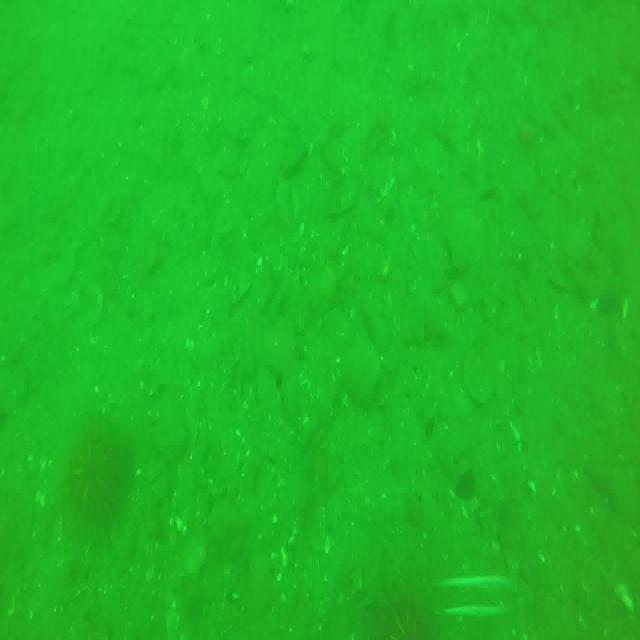echinus: (57, 419, 129, 536)
